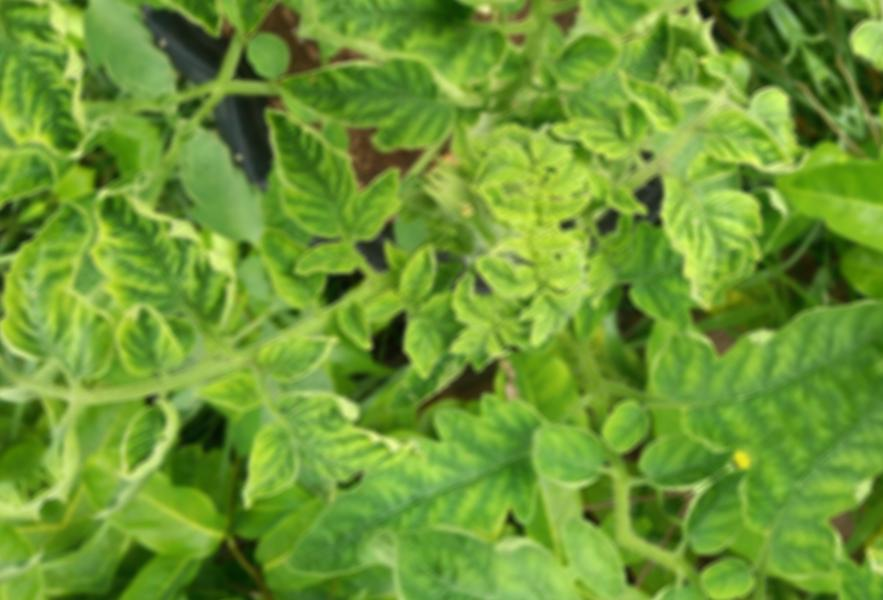Tomato leaf yellow virus: (251, 362, 590, 600), (617, 202, 883, 485), (193, 53, 450, 315), (23, 375, 239, 600), (58, 142, 266, 375), (295, 0, 566, 175), (0, 180, 181, 416), (274, 8, 483, 211), (233, 346, 417, 532), (353, 453, 580, 600), (627, 140, 798, 315), (760, 118, 883, 339), (509, 0, 759, 78), (91, 390, 202, 494), (245, 308, 351, 406), (413, 0, 570, 54), (610, 53, 696, 149), (464, 232, 548, 320), (549, 98, 634, 184), (457, 129, 545, 211), (145, 568, 366, 600), (380, 239, 461, 314), (324, 289, 391, 363)
